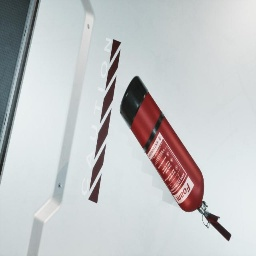FireExtinguisher ]: (120, 75, 232, 242)
